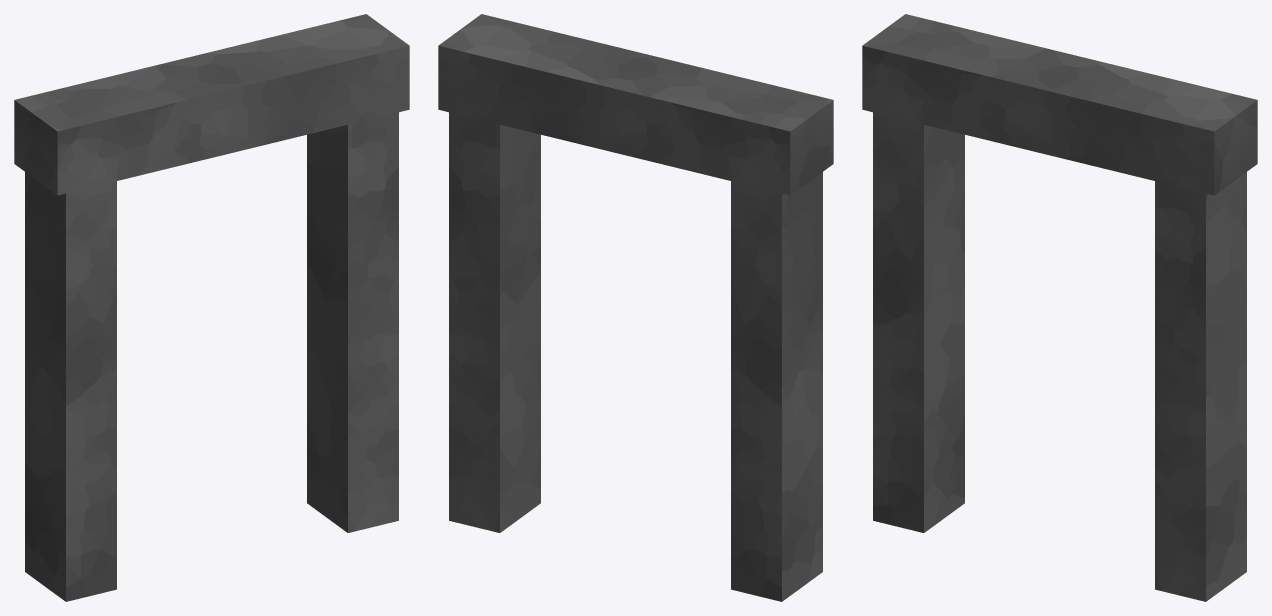
Rendered from tobira_waku.fbx.
The picture shows the model from 3 angles, left to right: view 1: azimuth 30°, elevation 25°; view 2: azimuth 150°, elevation 25°; view 3: azimuth 330°, elevation 25°; orthographic projection.
Visible parts, largest first — view 1: pCube4; view 2: pCube4; view 3: pCube4.
Boxes of the visible parts, x1=… form: pCube4: x1=14, y1=14, x2=409, y2=601; pCube4: x1=438, y1=14, x2=833, y2=601; pCube4: x1=862, y1=14, x2=1257, y2=601.
Size of the model in its own units: 10.49 by 13.48 by 2.23.
1 material, 1 textured.
